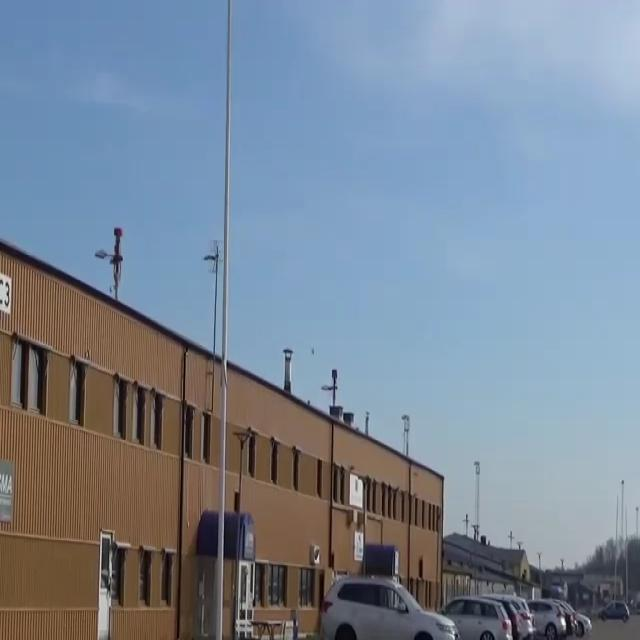Helicopter: (309, 342, 328, 372)
